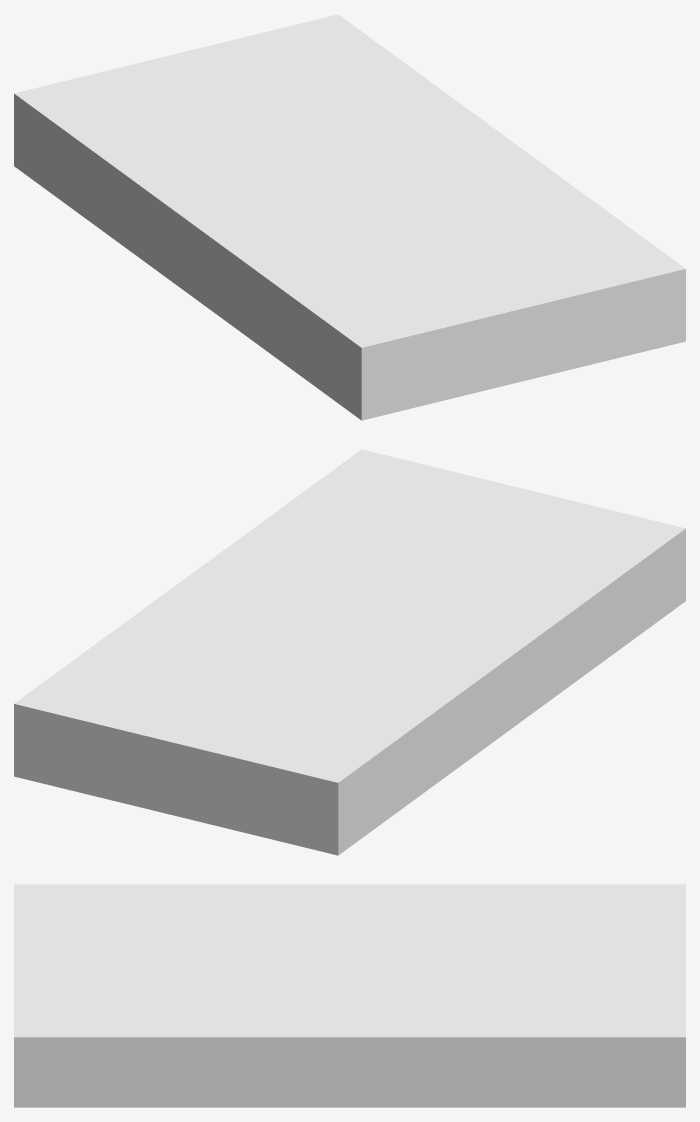
Rendered from carte_gioco.gltf.
3 renders of one model, top to bottom at view 1: azimuth 30°, elevation 25°; view 2: azimuth 150°, elevation 25°; view 3: azimuth 270°, elevation 25°, orthographic. The views are drawn at different scales.
Parts seen in each view (by area): view 1: Layer.1, Layer.2; view 2: Layer.1, Layer.2; view 3: Layer.1, Layer.2.
Part boxes in pixels (x1,y1,x2,y2): Layer.1: [51, 30, 648, 332]; Layer.2: [14, 14, 685, 420]; Layer.1: [51, 465, 648, 767]; Layer.2: [14, 449, 685, 855]; Layer.1: [40, 895, 659, 1026]; Layer.2: [14, 884, 685, 1107].
Bounding box in the file's own units: 14 × 3 × 26.
1 material, 1 textured.
